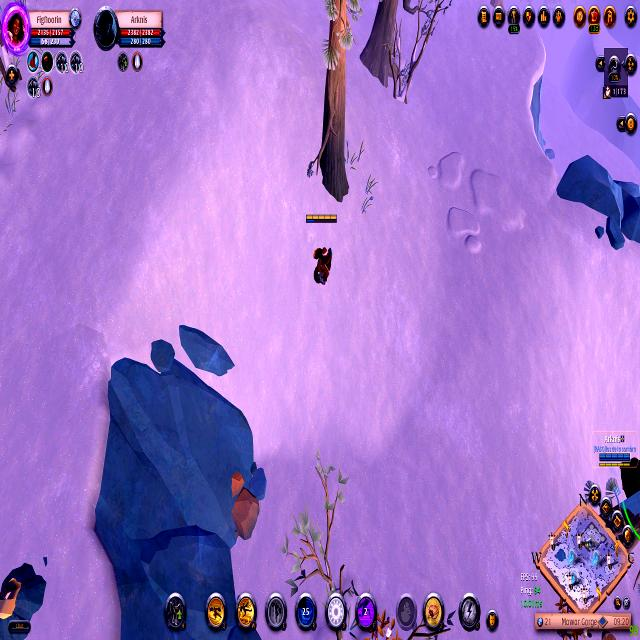player: (0, 546, 54, 640)
red: (304, 211, 340, 289), (590, 425, 640, 474)
tree: (223, 469, 260, 547)
